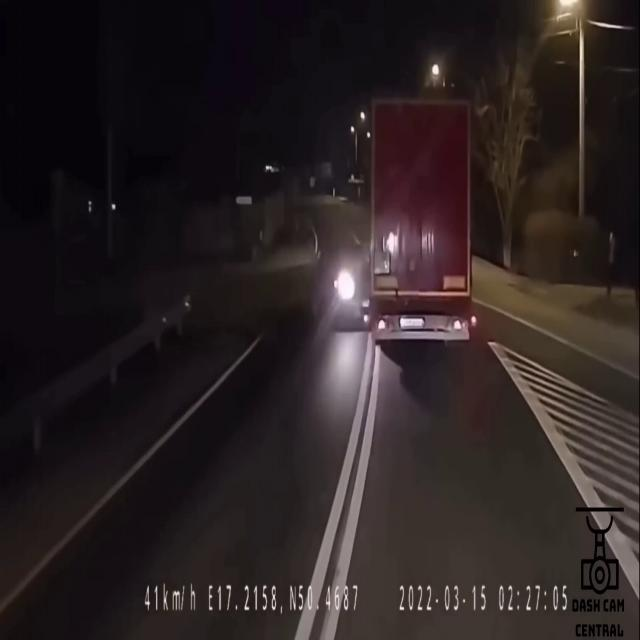accident: (313, 100, 472, 346)
